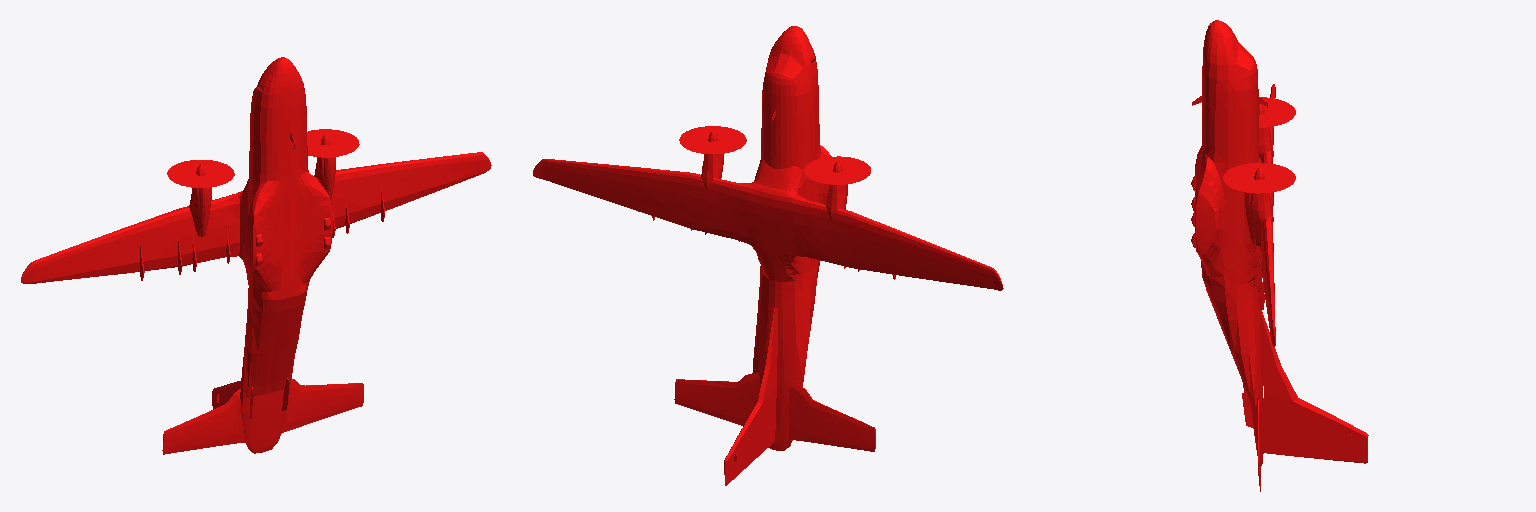
The robot description file, URDF, robot "hostile_target":
<?xml version="1.0"?>
<!--
  hostile_target.urdf — PyBullet URDF for hostile (threat) targets.

  Mesh source: CesiumGS Cesium_Air.glb converted to OBJ (Apache 2.0)
  https://github.com/CesiumGS/cesium

  The Cesium Air model is an airplane silhouette that serves as a
  recognisable hostile/threat marker in the ISR simulation.

  Raw mesh extent ≈ 25.7 × 7.8 × 21.4 m.  Scaled to ≈ 3.9 m span.
-->
<robot name="hostile_target">

  <link name="base_link">

    <inertial>
      <mass value="0.0"/>
      <origin xyz="0 0 0" rpy="0 0 0"/>
      <inertia ixx="0" ixy="0" ixz="0" iyy="0" iyz="0" izz="0"/>
    </inertial>

    <visual>
      <origin xyz="0 0 0" rpy="0 0 0"/>
      <geometry>
        <!-- Scale raw ~25.7 m span down to ~3.9 m (factor 0.15) -->
        <mesh filename="../meshes/cesium_air.obj" scale="0.15 0.15 0.15"/>
      </geometry>
      <material name="hostile_red">
        <color rgba="1.0 0.1 0.1 0.85"/>
      </material>
    </visual>

    <collision>
      <origin xyz="0 0 0" rpy="0 0 0"/>
      <geometry>
        <box size="3.0 1.5 2.0"/>
      </geometry>
    </collision>

  </link>

</robot>

--- Render facts (derived) ---
Views: 3 orthographic renders of the robot side by side, from view 1: azimuth 30°, elevation 25°; view 2: azimuth 150°, elevation 25°; view 3: azimuth 270°, elevation 25°.
Model hostile_target with 1 links and 0 joints (none), rooted at base_link, posed every joint at zero.
Links seen in each view (by area): view 1: base_link; view 2: base_link; view 3: base_link.
Link boxes in pixels (left/top/right/bottom): base_link: left=21, top=57, right=491, bottom=454; base_link: left=533, top=26, right=1003, bottom=485; base_link: left=1191, top=20, right=1368, bottom=491.
Bounding box of the posed robot: 3.86 × 1.16 × 3.21 m (x, y, z).
1 mesh visuals loaded from 1 distinct referenced files (1 OBJ).
